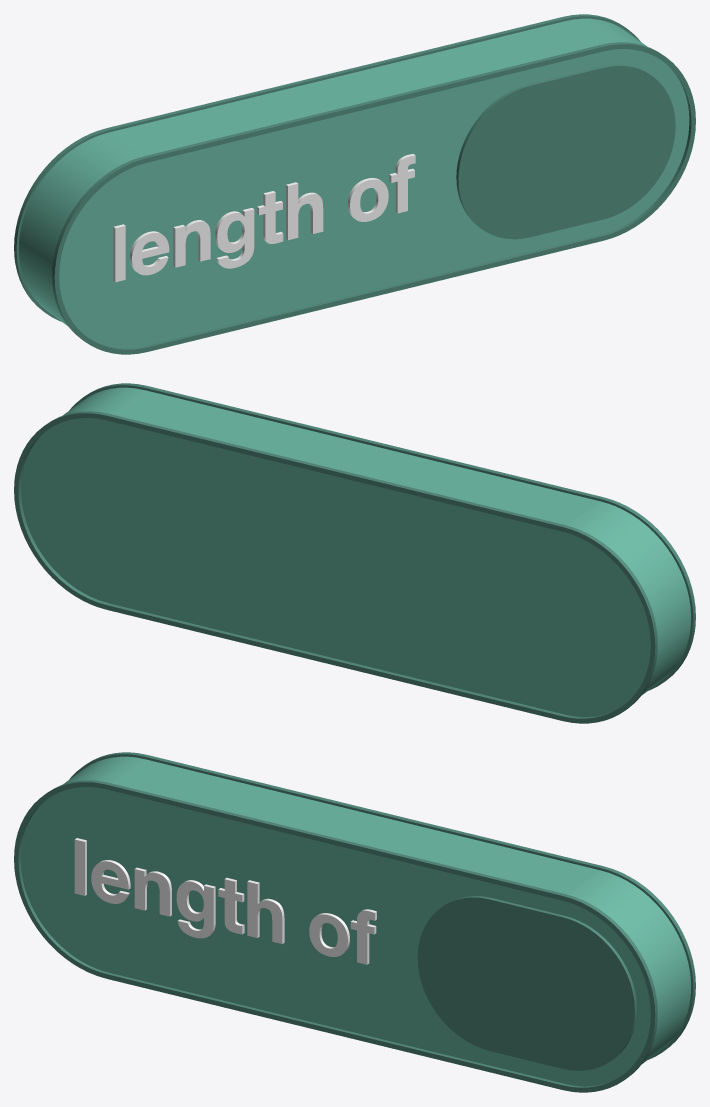
The model's file is text_length.gltf.
3 renders of one model, top to bottom at view 1: azimuth 30°, elevation 25°; view 2: azimuth 150°, elevation 25°; view 3: azimuth 330°, elevation 25°, orthographic.
Parts seen in each view (by area): view 1: Extrude.10, Extrude, Extrude.9, Extrude.11, Extrude.5, Extrude.3, Extrude.7, Extrude.6, Extrude.2, Extrude.1, Extrude.4, Extrude.8; view 2: Extrude.10, Extrude.11, Extrude.9; view 3: Extrude.10, Extrude, Extrude.9, Extrude.11, Extrude.5, Extrude.3, Extrude.7, Extrude.6, Extrude.2, Extrude.1, Extrude.4, Extrude.8.
Part boxes in pixels (<box>): Extrude.10: <box>19,18,689,348</box>; Extrude: <box>456,64,675,239</box>; Extrude.9: <box>52,42,695,354</box>; Extrude.11: <box>14,14,640,321</box>; Extrude.5: <box>215,208,254,268</box>; Extrude.3: <box>286,182,323,240</box>; Extrude.7: <box>130,231,169,275</box>; Extrude.6: <box>173,220,210,267</box>; Extrude.2: <box>348,178,388,221</box>; Extrude.1: <box>389,154,415,213</box>; Extrude.4: <box>257,191,283,243</box>; Extrude.8: <box>113,224,125,282</box>; Extrude.10: <box>21,387,690,716</box>; Extrude.11: <box>14,411,657,723</box>; Extrude.9: <box>69,383,695,690</box>; Extrude.10: <box>20,756,690,1086</box>; Extrude: <box>417,896,636,1070</box>; Extrude.9: <box>14,780,657,1092</box>; Extrude.11: <box>69,752,695,1059</box>; Extrude.5: <box>176,880,215,938</box>; Extrude.3: <box>247,880,284,943</box>; Extrude.7: <box>91,860,130,903</box>; Extrude.6: <box>134,867,171,916</box>; Extrude.2: <box>309,913,349,956</box>; Extrude.1: <box>350,909,376,964</box>; Extrude.4: <box>218,877,244,934</box>; Extrude.8: <box>74,838,86,895</box>.
Bounding box in the file's own units: 0.7152 × 0.2069 × 0.0787.
